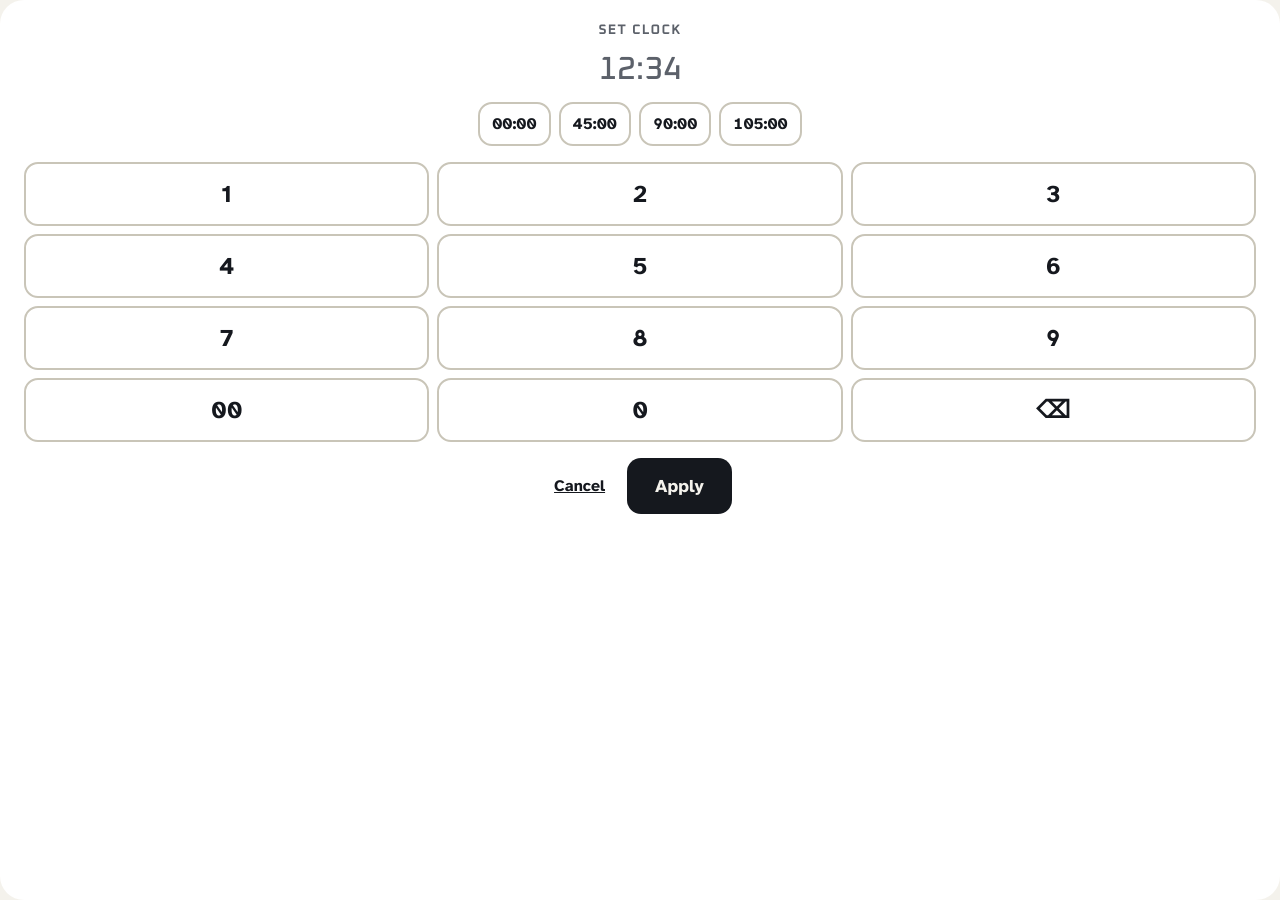
Test case: ClockSheet › has a 00 key and a backspace
Click the button "4" at (227, 266), box 24,234 -> 429,298
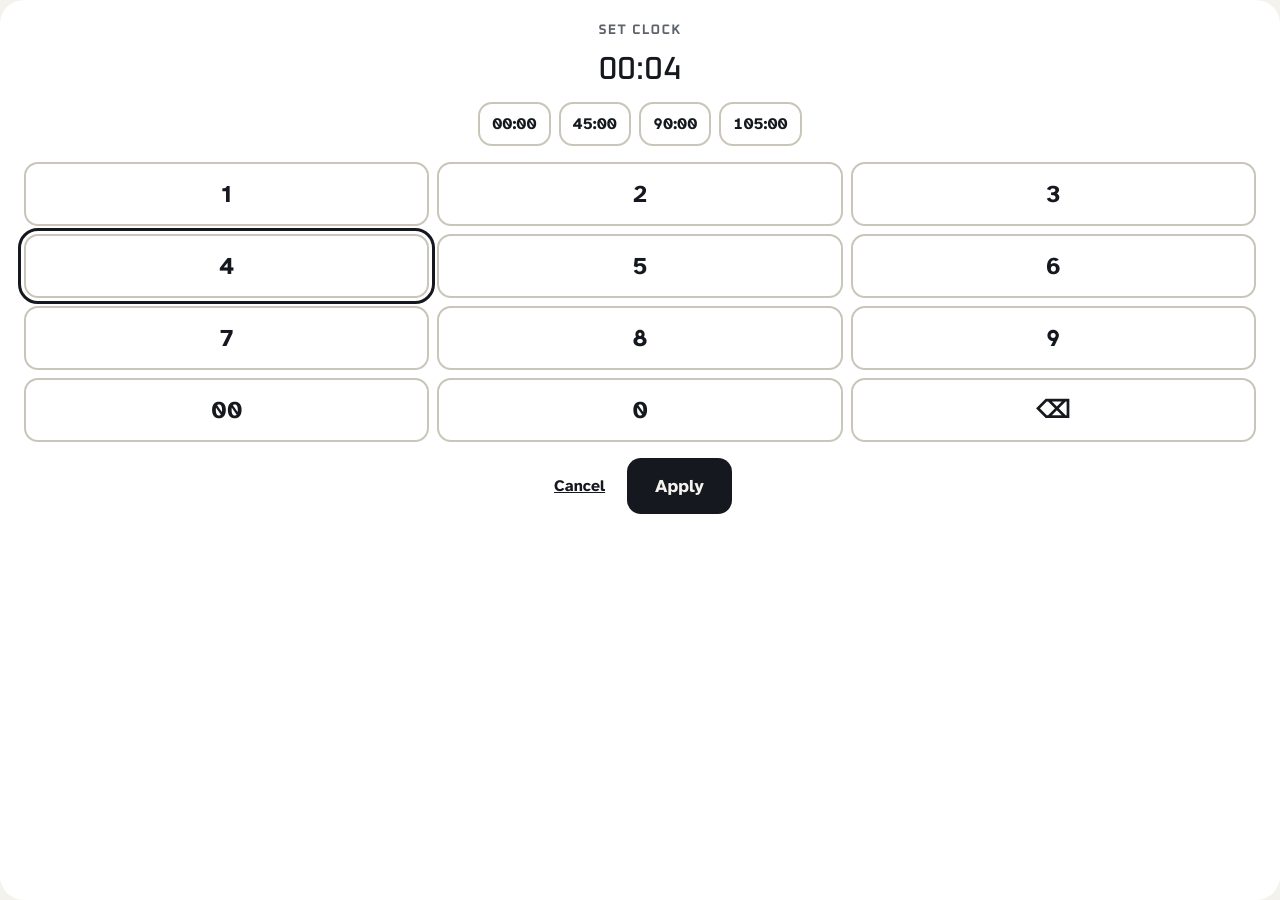
Click the button "5" at (640, 266), box 437,234 -> 843,298
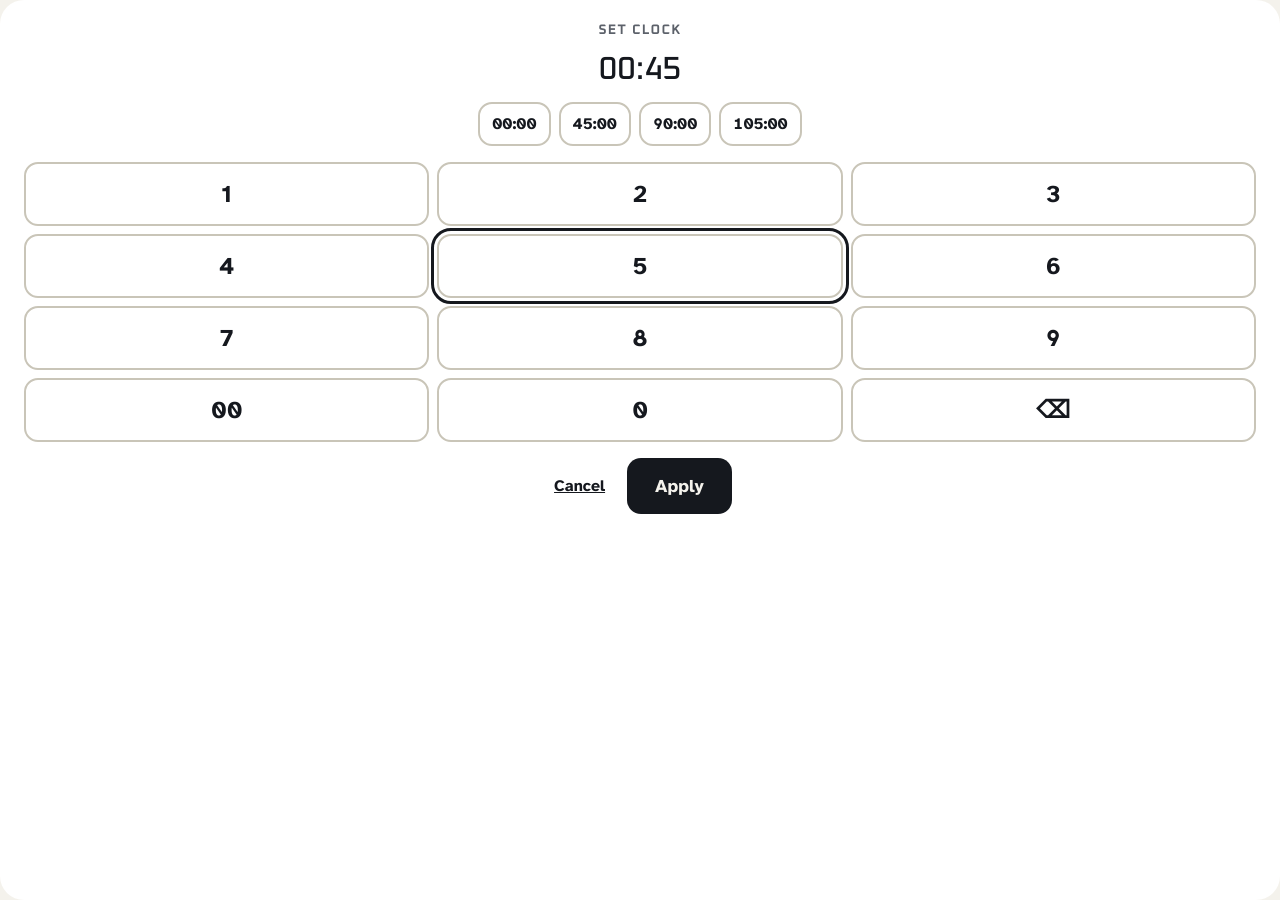
Click the button "00" at (227, 410), box 24,378 -> 429,442
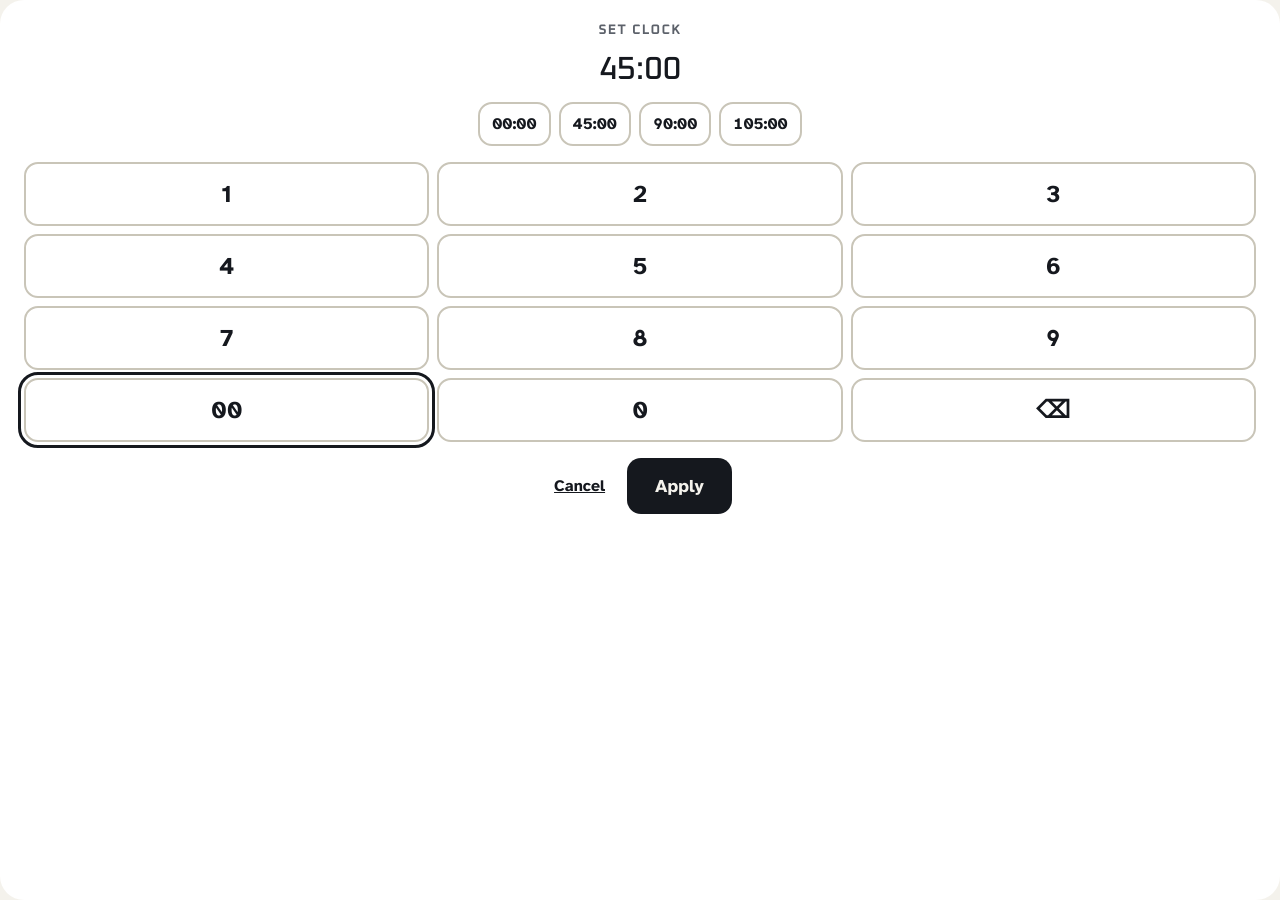
Now the text named "New clock time" reads "45:00", box 599,54 -> 681,86
Click the button named "Backspace" at (1053, 410), box 851,378 -> 1256,442
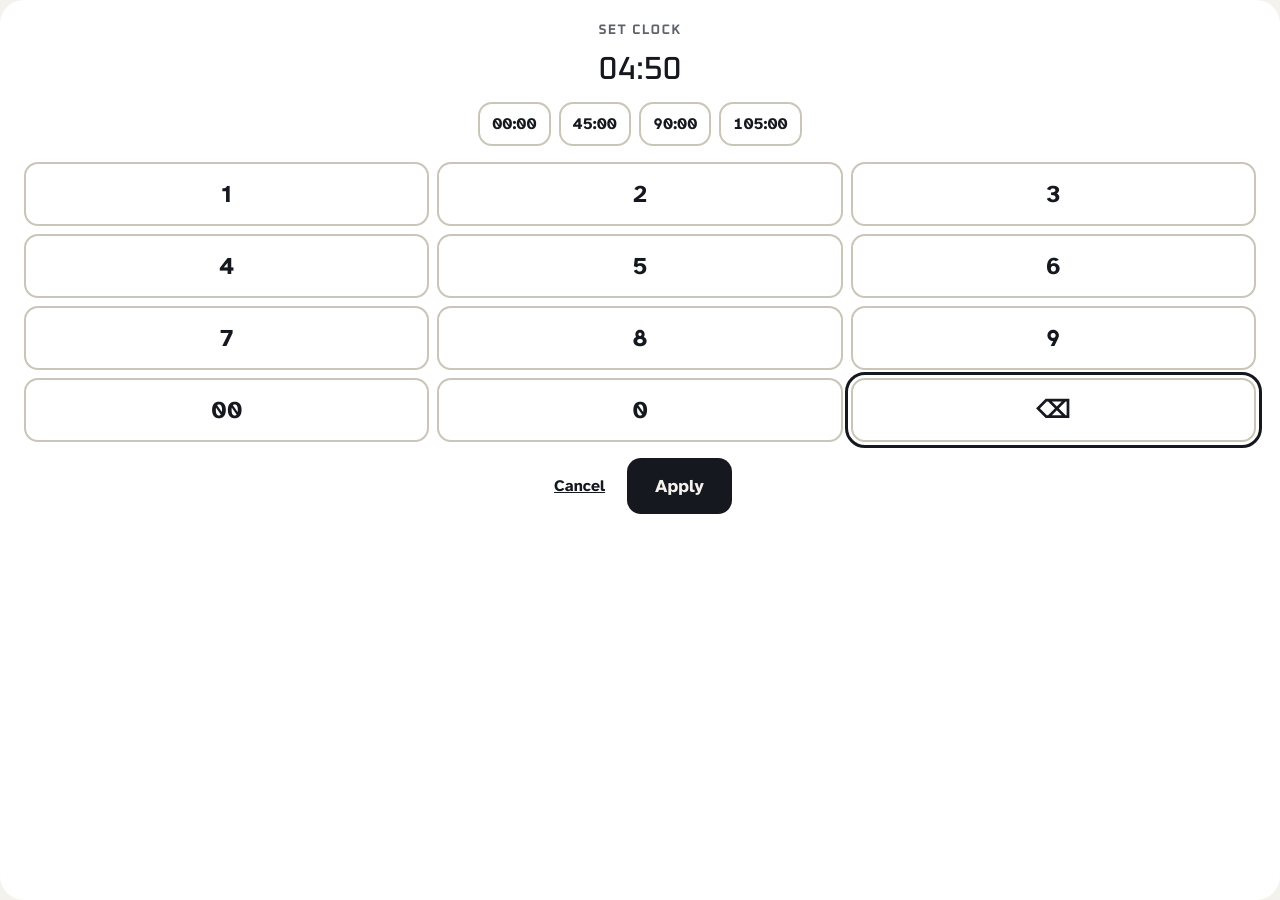
Now the text named "New clock time" reads "04:50", box 599,54 -> 681,86
